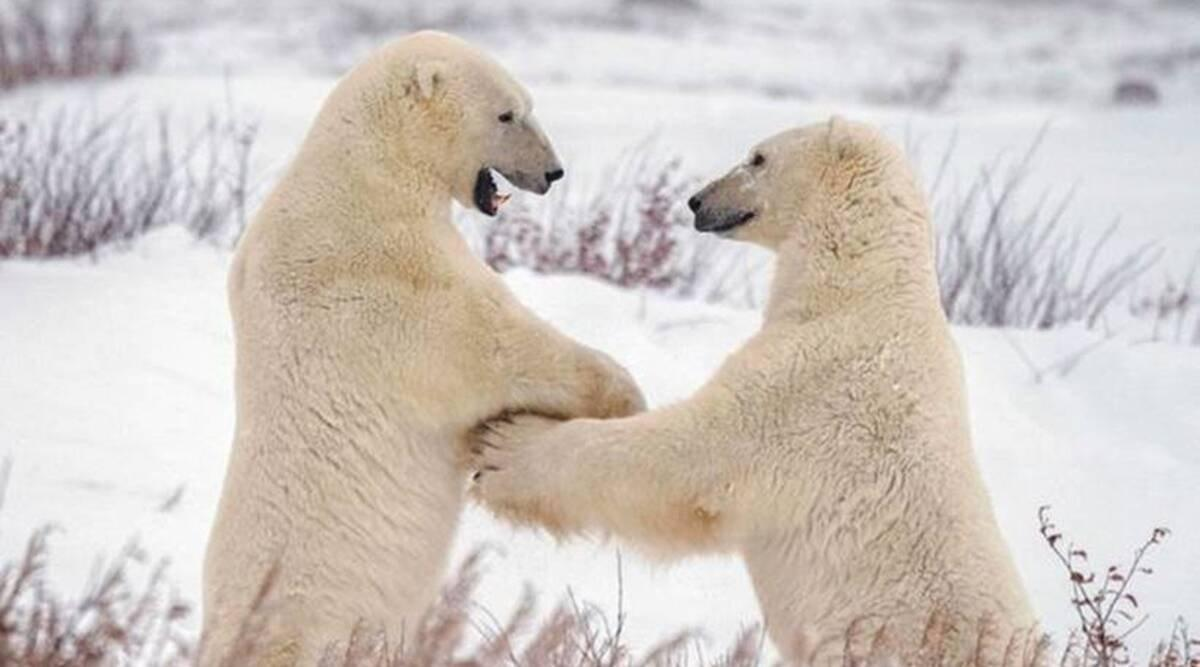bear: (471, 113, 1042, 667), (203, 31, 646, 667)
